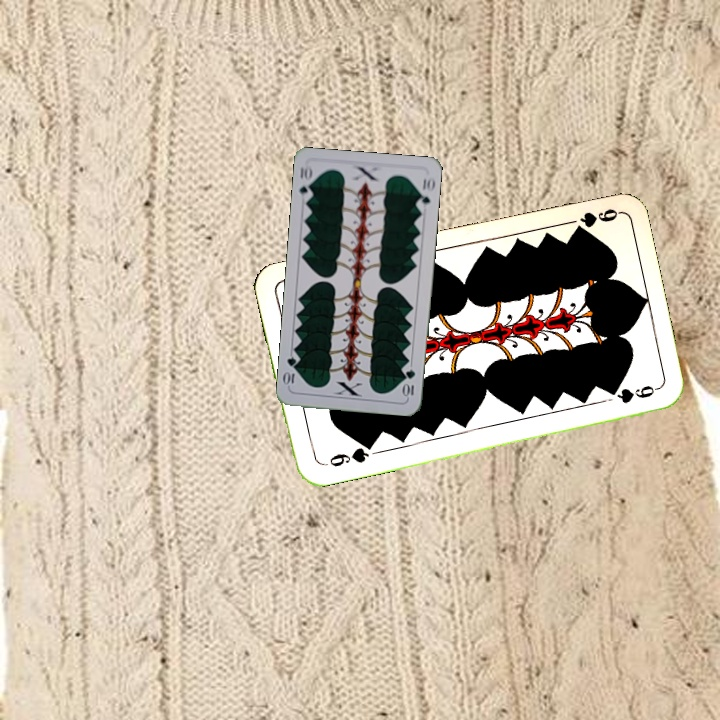G10: (295, 162, 315, 203), (400, 365, 418, 400)
G9: (318, 441, 375, 469), (571, 204, 621, 233)
